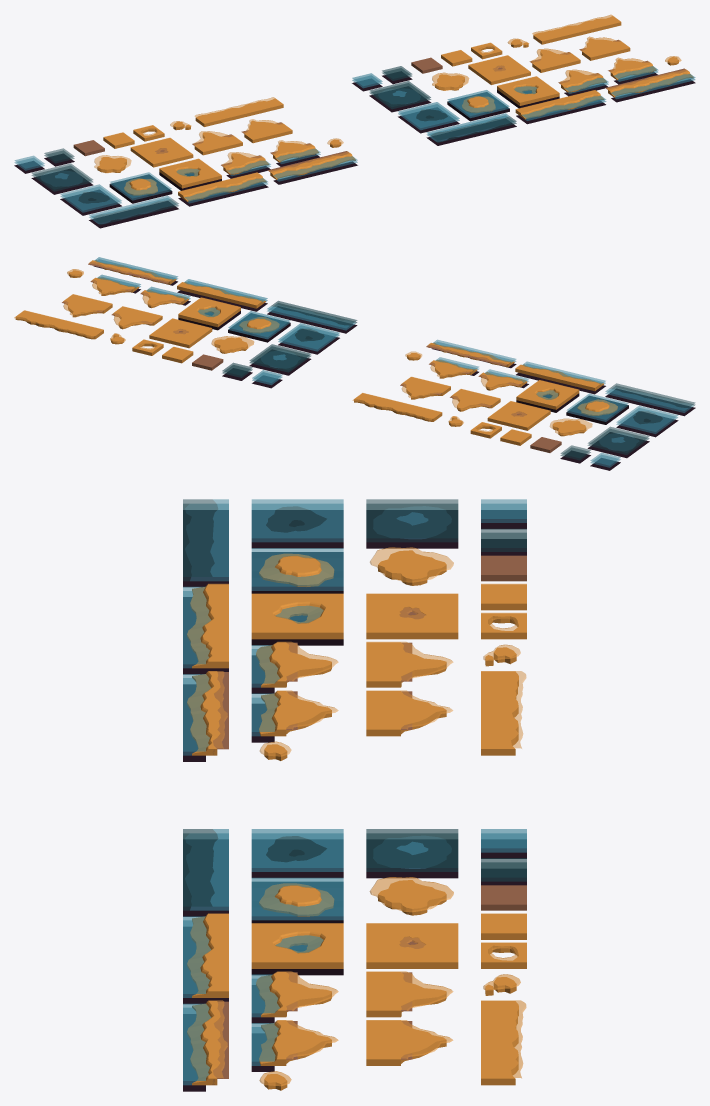
File: IslandsFreeLand_04.fbx
3 views of the same model, one above another, from view 1: azimuth 30°, elevation 25°; view 2: azimuth 150°, elevation 25°; view 3: azimuth 270°, elevation 25° (orthographic). The views are drawn at different scales.
Parts seen in each view (by area): view 1: SandWDiag2T, SandWDiag2, SandWDiag4T, SandWDiag4, SandWDiag3T, SandWDiag3, SandWDiag1T, SandWDiag1, SandWLine1T, SandWLine1, SandWCorn3T, SandWCorn3 (+60 smaller); view 2: SandDiag3T, SandDiag3, SandWCorn1T, SandWCorn1, SandWInCorn1, SandWInCorn1T, SandWDiag3, SandWDiag3T, SandWLine1T, SandWLine1, SandDiag1T, SandDiag1 (+49 smaller); view 3: SandWDiag4, SandWDiag2T, SandWDiag4T, SandWDiag2, SandDiag2T, SandDiag4, SandDiag2, SandDiag4T, SandWInCorn2T, SandWInCorn2, SandWInCorn4, WaterCorn2T (+80 smaller).
Boxes of the visible parts, bbox=[...] form: SandWDiag2T: bbox=[568, 69, 608, 91]; SandWDiag2: bbox=[231, 152, 270, 173]; SandWDiag4T: bbox=[618, 57, 658, 79]; SandWDiag4: bbox=[280, 140, 320, 161]; SandWDiag3T: bbox=[608, 58, 638, 84]; SandWDiag3: bbox=[270, 140, 300, 166]; SandWDiag1T: bbox=[558, 70, 588, 96]; SandWDiag1: bbox=[221, 152, 250, 178]; SandWLine1T: bbox=[515, 104, 546, 124]; SandWLine1: bbox=[178, 187, 208, 206]; SandWCorn3T: bbox=[458, 101, 489, 121]; SandWCorn3: bbox=[121, 184, 152, 203]; SandDiag3T: bbox=[71, 299, 112, 317]; SandDiag3: bbox=[409, 381, 450, 399]; SandWCorn1T: bbox=[248, 322, 279, 342]; SandWCorn1: bbox=[586, 405, 617, 424]; SandWInCorn1: bbox=[536, 394, 567, 412]; SandWInCorn1T: bbox=[198, 312, 229, 330]; SandWDiag3: bbox=[438, 362, 478, 378]; SandWDiag3T: bbox=[100, 279, 140, 295]; SandWLine1T: bbox=[236, 293, 267, 311]; SandWLine1: bbox=[575, 376, 605, 394]; SandDiag1T: bbox=[121, 311, 162, 328]; SandDiag1: bbox=[459, 393, 500, 411]; SandWDiag4: bbox=[251, 709, 338, 742]; SandWDiag2T: bbox=[251, 990, 338, 1023]; SandWDiag4T: bbox=[251, 1039, 338, 1071]; SandWDiag2: bbox=[251, 661, 338, 693]; SandDiag2T: bbox=[366, 990, 453, 1017]; SandDiag4: bbox=[366, 709, 452, 736]; SandDiag2: bbox=[366, 661, 453, 687]; SandDiag4T: bbox=[366, 1039, 452, 1065]; SandWInCorn2T: bbox=[297, 942, 343, 975]; SandWInCorn2: bbox=[297, 612, 343, 645]; SandWInCorn4: bbox=[251, 612, 297, 645]; WaterCorn2T: bbox=[412, 848, 458, 878].
Bounding box in the file's own units: 6075 × 65 × 1500.
Materials: 8 (2 with a texture image).
